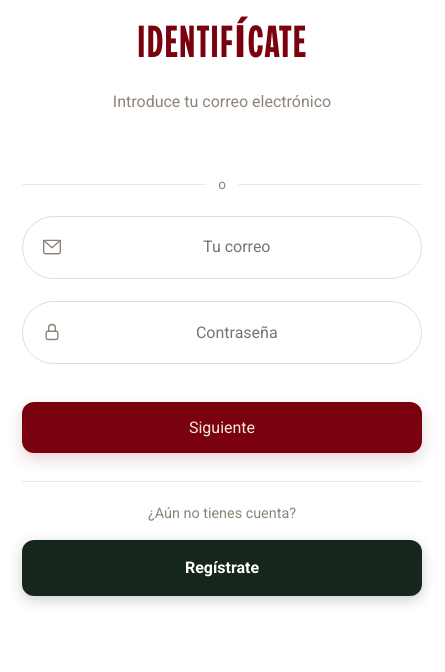
it: Login page › shows validation error for invalid email format
Step 1. Type "notanemail" into the field with placeholder "Tu correo" → x=237, y=247, box [72,223,402,271]
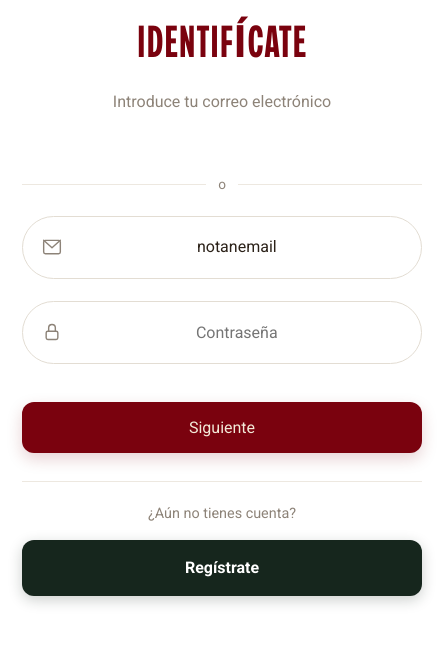
Step 2. Submit the form with class "datos-form", box [22,216,422,453]
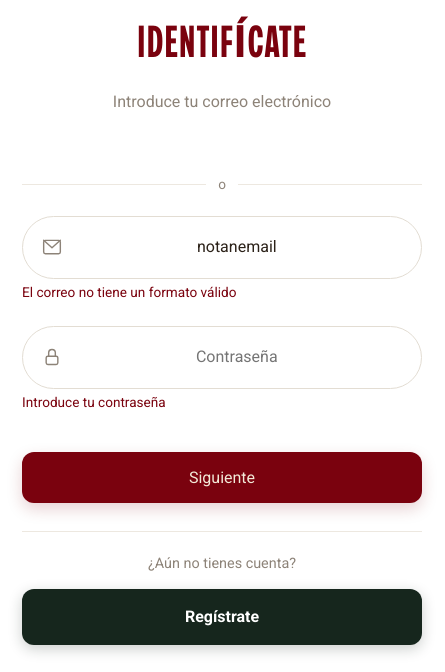
Result: the text "El correo no tiene un formato válido" is shown at [22,284,236,300]
